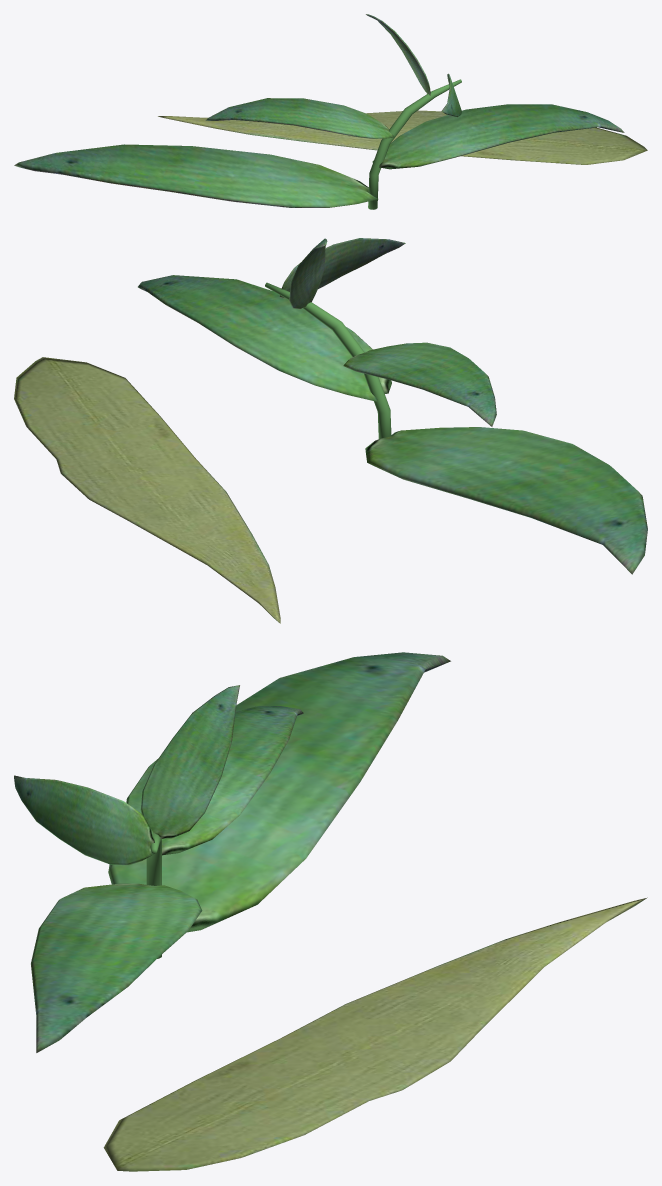
The model's file is danzhuye.FBX.
3 views of the same model, one above another, from view 1: azimuth 30°, elevation 25°; view 2: azimuth 150°, elevation 25°; view 3: azimuth 270°, elevation 25° (orthographic). The views are drawn at different scales.
Visible parts, largest first — view 1: Line001, Line003, Line002, Line004, Cylinder001, Line005, Line006; view 2: Line002, Line001, Line003, Line004, Line006, Cylinder001, Line005; view 3: Line002, Line001, Line003, Line005, Line006, Line004.
Part boxes in pixels (x1=…): Line001: x1=14, y1=144, x2=378, y2=207; Line003: x1=372, y1=104, x2=624, y2=169; Line002: x1=158, y1=110, x2=647, y2=164; Line004: x1=205, y1=98, x2=394, y2=138; Cylinder001: x1=368, y1=79, x2=461, y2=209; Line005: x1=366, y1=14, x2=430, y2=95; Line006: x1=441, y1=73, x2=461, y2=117; Line002: x1=14, y1=357, x2=280, y2=623; Line001: x1=365, y1=427, x2=647, y2=574; Line003: x1=138, y1=275, x2=391, y2=401; Line004: x1=343, y1=342, x2=496, y2=426; Line006: x1=279, y1=238, x2=405, y2=298; Cylinder001: x1=265, y1=282, x2=391, y2=438; Line005: x1=289, y1=238, x2=327, y2=309; Line002: x1=103, y1=897, x2=647, y2=1171; Line001: x1=108, y1=652, x2=450, y2=932; Line003: x1=31, y1=883, x2=202, y2=1052; Line005: x1=140, y1=685, x2=239, y2=838; Line006: x1=14, y1=775, x2=154, y2=865; Line004: x1=126, y1=706, x2=303, y2=855.
Bounding box in the file's own units: 56.62 × 17.22 × 34.56.
Materials: 1 (1 with a texture image).
